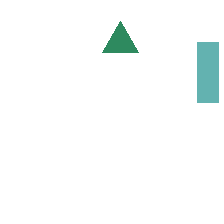rectangle: (197, 42, 218, 102)
triangle: (102, 21, 138, 52)
